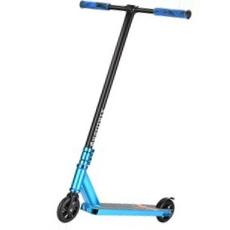scooter: (56, 1, 192, 222)
